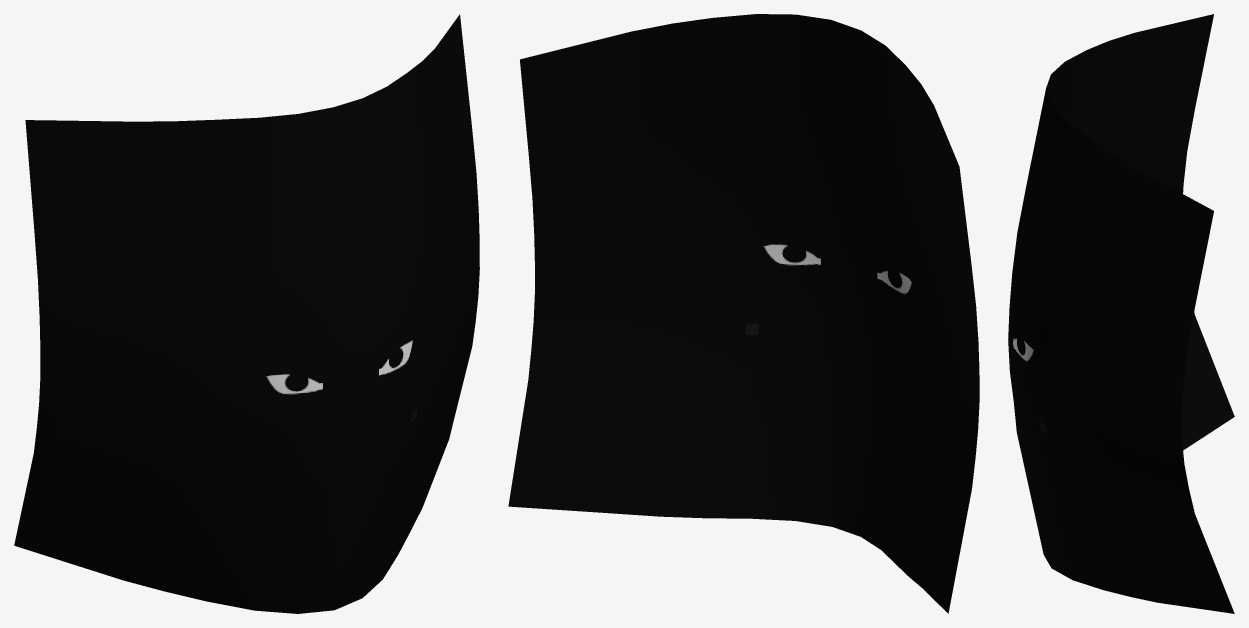
Rendered from Mask_12.glb.
The picture shows the model from 3 angles, left to right: view 1: azimuth 30°, elevation 25°; view 2: azimuth 150°, elevation 25°; view 3: azimuth 270°, elevation 25°; orthographic projection. The views are drawn at different scales.
Parts seen in each view (by area): view 1: Face12; view 2: Face12; view 3: Face12.
Part boxes in pixels (<box>): Face12: <box>14,14,479,613</box>; Face12: <box>508,14,979,613</box>; Face12: <box>1008,14,1234,613</box>.
Size of the model in its own units: 91.85 by 100 by 44.18.
Materials: 1 (1 with a texture image).
